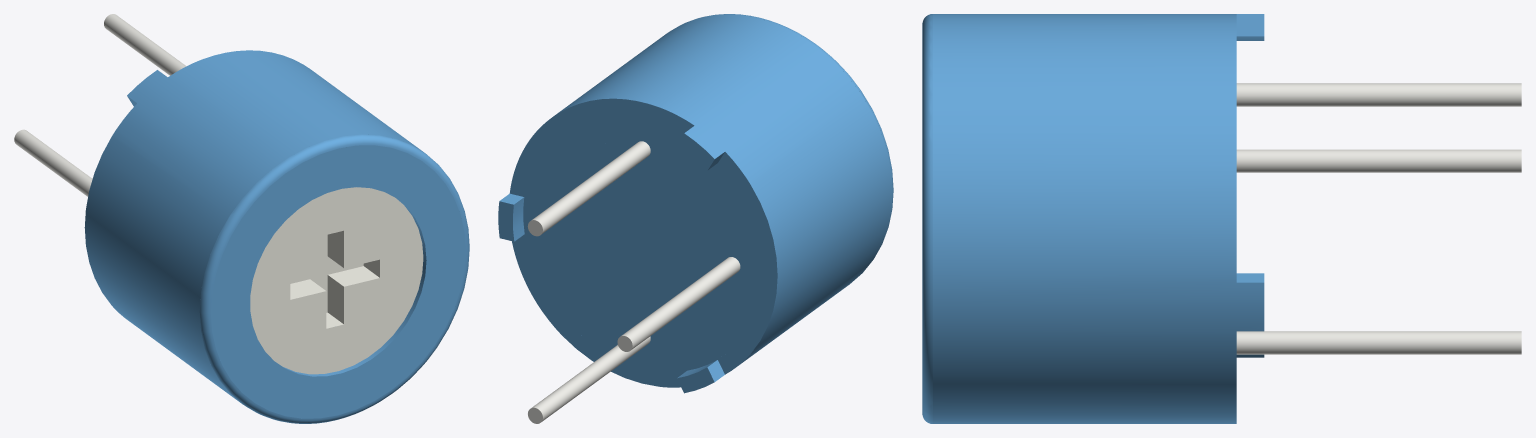
The model's file is Potentiometer_Bourns_3339P_Vertical.glb.
3 views of the same model, side by side, from view 1: azimuth 30°, elevation 25°; view 2: azimuth 150°, elevation 25°; view 3: azimuth 270°, elevation 25° (orthographic). The views are drawn at different scales.
Visible parts, largest first — view 1: Shape_IndexedFaceSet.044, Shape_IndexedFaceSet.085, Shape_IndexedFaceSet.087, Shape_IndexedFaceSet.080, Shape_IndexedFaceSet.024, Shape_IndexedFaceSet.006, Shape_IndexedFaceSet.086, Shape_IndexedFaceSet.088, Shape_IndexedFaceSet.090, Shape_IndexedFaceSet.096, Shape_IndexedFaceSet.093; view 2: Shape_IndexedFaceSet.044, Shape_IndexedFaceSet.002, Shape_IndexedFaceSet.004, Shape_IndexedFaceSet.023, Shape_IndexedFaceSet.006, Shape_IndexedFaceSet.024, Shape_IndexedFaceSet.001, Shape_IndexedFaceSet.003, Shape_IndexedFaceSet.022, Shape_IndexedFaceSet.012, Shape_IndexedFaceSet.007, Shape_IndexedFaceSet.017 (+15 smaller); view 3: Shape_IndexedFaceSet.044, Shape_IndexedFaceSet.001, Shape_IndexedFaceSet.006, Shape_IndexedFaceSet.024, Shape_IndexedFaceSet.080, Shape_IndexedFaceSet.072.
Boxes of the visible parts, <box> form: Shape_IndexedFaceSet.044: <box>84,50,423,403</box>; Shape_IndexedFaceSet.085: <box>211,145,465,418</box>; Shape_IndexedFaceSet.087: <box>250,187,423,374</box>; Shape_IndexedFaceSet.080: <box>199,134,469,423</box>; Shape_IndexedFaceSet.024: <box>14,129,92,196</box>; Shape_IndexedFaceSet.006: <box>104,14,186,75</box>; Shape_IndexedFaceSet.086: <box>279,198,426,376</box>; Shape_IndexedFaceSet.088: <box>327,275,343,323</box>; Shape_IndexedFaceSet.090: <box>328,266,379,286</box>; Shape_IndexedFaceSet.096: <box>327,230,343,267</box>; Shape_IndexedFaceSet.093: <box>290,279,325,299</box>; Shape_IndexedFaceSet.044: <box>556,14,892,364</box>; Shape_IndexedFaceSet.002: <box>537,135,671,343</box>; Shape_IndexedFaceSet.004: <box>671,159,762,354</box>; Shape_IndexedFaceSet.023: <box>743,185,777,353</box>; Shape_IndexedFaceSet.006: <box>531,141,650,234</box>; Shape_IndexedFaceSet.024: <box>621,257,740,349</box>; Shape_IndexedFaceSet.001: <box>532,336,650,421</box>; Shape_IndexedFaceSet.003: <box>572,320,671,370</box>; Shape_IndexedFaceSet.022: <box>697,169,742,221</box>; Shape_IndexedFaceSet.012: <box>537,132,572,190</box>; Shape_IndexedFaceSet.007: <box>537,260,572,319</box>; Shape_IndexedFaceSet.017: <box>563,328,658,386</box>; Shape_IndexedFaceSet.044: <box>933,14,1264,423</box>; Shape_IndexedFaceSet.001: <box>1236,331,1521,354</box>; Shape_IndexedFaceSet.006: <box>1236,83,1521,106</box>; Shape_IndexedFaceSet.024: <box>1236,149,1521,172</box>; Shape_IndexedFaceSet.080: <box>922,14,932,423</box>; Shape_IndexedFaceSet.072: <box>1236,14,1264,36</box>.
Bounding box in the file's own units: 3 × 3 × 4.38.
